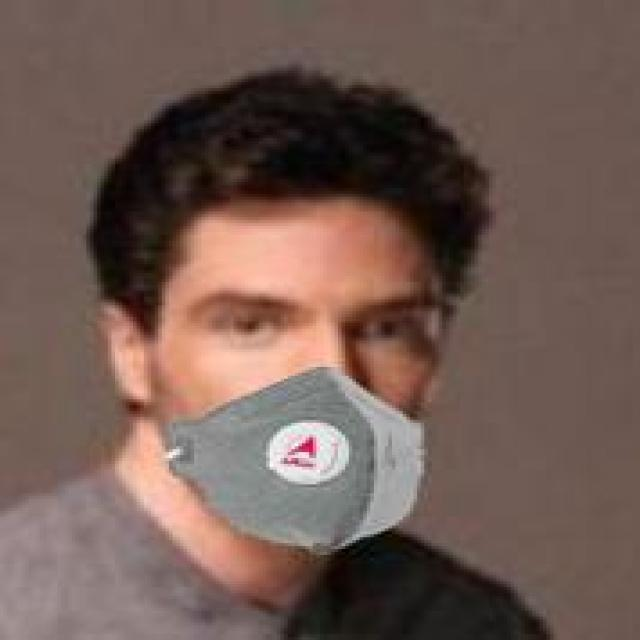mask: (39, 35, 536, 567)
